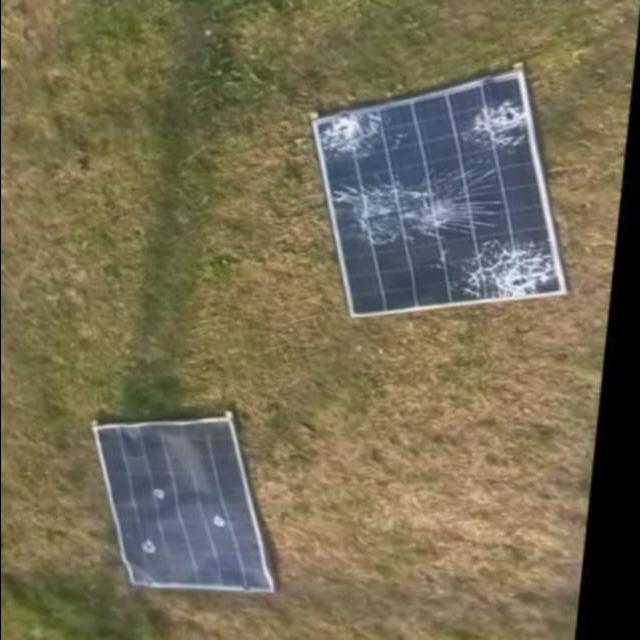cracked: (311, 67, 568, 323)
soiled: (92, 416, 280, 594)
